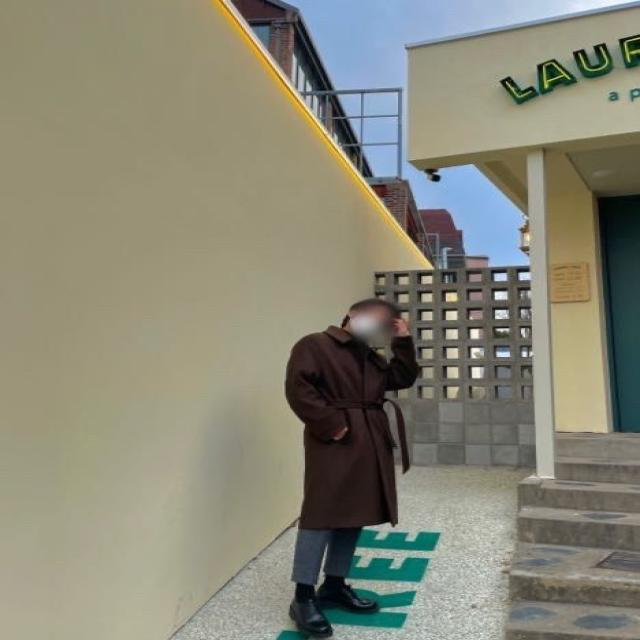coat: (286, 323, 420, 530)
denimpants: (292, 522, 362, 586)
